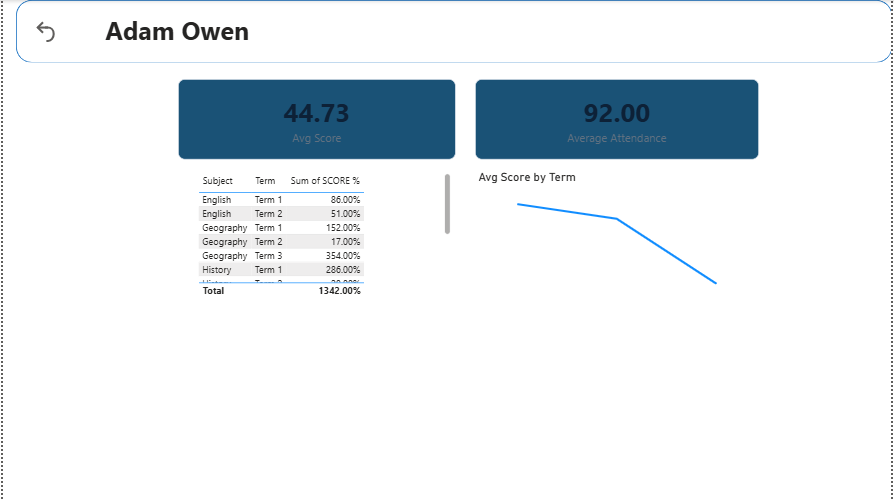

Layout of this report page (visuals, bound fields, positions):
{"tool":"powerbi","page":{"name":"Student profile","canvas":[1280,720],"ordinal":1},"visuals":[{"type":"card","fields":{"Values":["Student Scores.Avg Score"]},"box":[251.6,113.2,400,116.5],"z":0},{"type":"card","fields":{"Values":["Attendance.Average Attendance"]},"box":[679.1,113.2,408.8,116.5],"z":1000},{"type":"actionButton","box":[18.7,45.1,100,39.6],"z":2000},{"type":"shape","box":[18.5,0,1261.5,90.1],"z":3000},{"type":"actionButton","box":[41.8,25.3,45.1,39.6],"z":4000},{"type":"card","fields":{"Values":["Min(Student detail.Name)"]},"box":[101.1,13.2,300,62.6],"z":5000},{"type":"tableEx","fields":{"Values":["Student Scores.Subject","Student Scores.Term","Sum(Student Scores.SCORE %)"]},"box":[276.9,245.1,372.5,186.8],"z":6000},{"type":"lineChart","fields":{"Category":["Student Scores.Term"],"Y":["Student Scores.Avg Score"]},"box":[679.1,245.1,408.8,187.9],"z":7000}]}

Visuals, with their boxes in screenshot pixels (x1, y1, x2, y2), scaled from the page's 1280x720 canvas onto the 894x500 screenshot:
card - Student Scores.Avg Score: 176:79:455:160
card - Attendance.Average Attendance: 474:79:760:160
actionButton: 13:31:83:59
shape: 13:0:893:63
actionButton: 29:18:61:45
card - Min(Student detail.Name): 71:9:280:53
tableEx - Student Scores.Subject x Student Scores.Term: 193:170:454:300
lineChart - Student Scores.Term x Student Scores.Avg Score: 474:170:760:301
